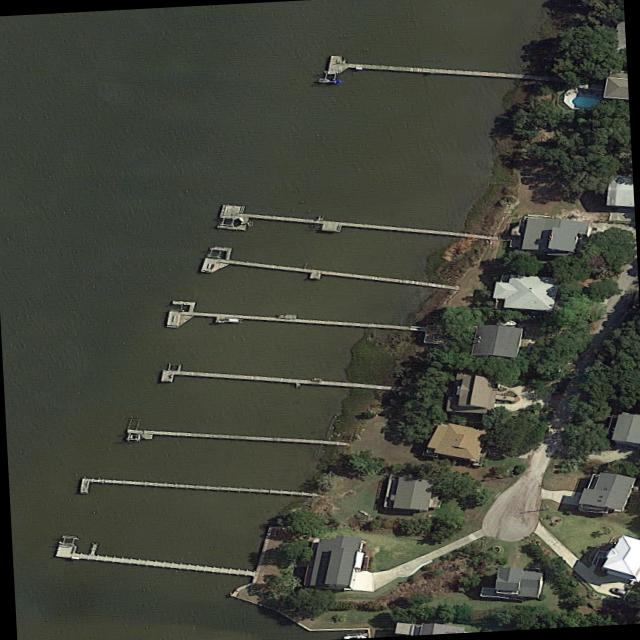ship: (126, 433, 144, 440)
small-vehicle: (610, 587, 625, 595)
